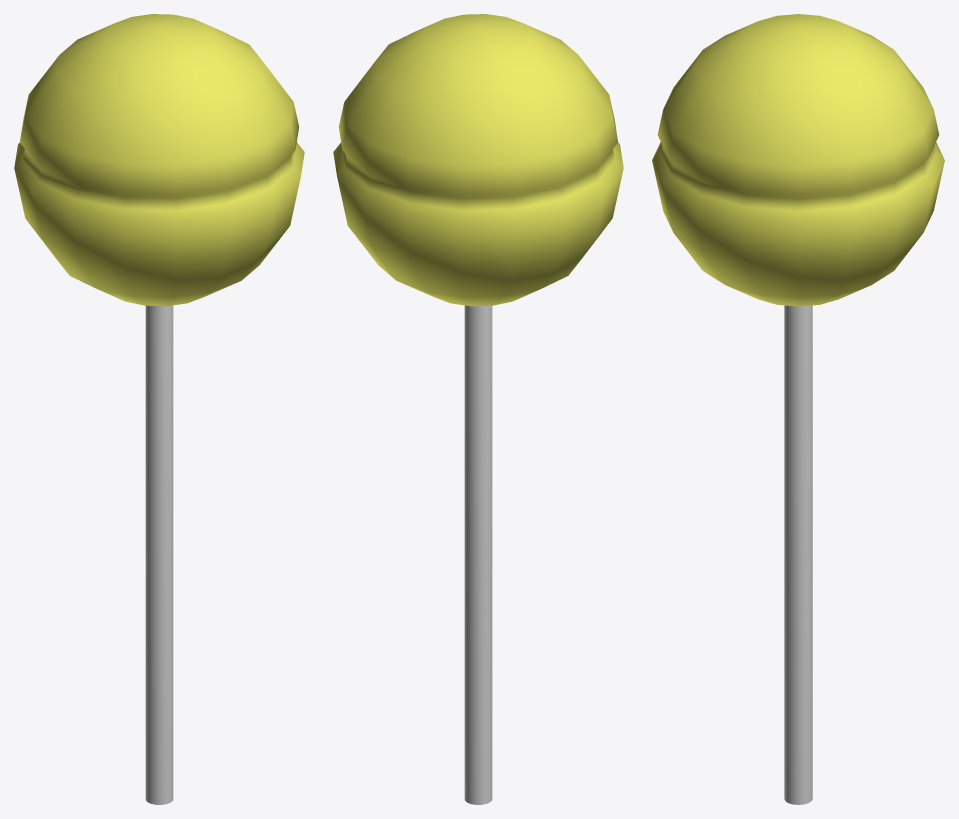
File: lollipop.fbx
3 views of the same model, side by side, from view 1: azimuth 30°, elevation 25°; view 2: azimuth 150°, elevation 25°; view 3: azimuth 270°, elevation 25° (orthographic).
Visible parts, largest first — view 1: Sphere, Cylinder; view 2: Sphere, Cylinder; view 3: Sphere, Cylinder.
Boxes of the visible parts, left/top/right/bottom form: Sphere: left=14, top=14, right=304, bottom=306; Cylinder: left=145, top=305, right=173, bottom=804; Sphere: left=333, top=14, right=623, bottom=306; Cylinder: left=464, top=305, right=492, bottom=804; Sphere: left=652, top=14, right=944, bottom=306; Cylinder: left=784, top=305, right=812, bottom=804.
Size of the model in its own units: 29.22 by 84.9 by 29.22.
